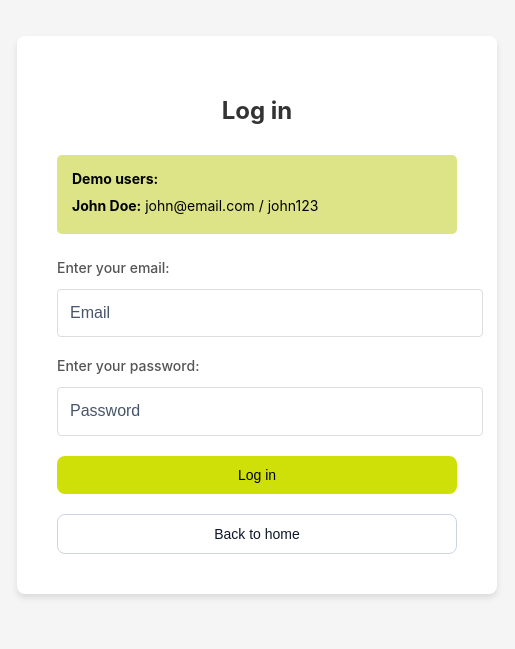
Test: LoginForm — failed login › TC-UNIT-FE-048 — shows error message on failed login
The width and height of the screenshot is (515, 649).
Type "wrong@example.com" into the field with placeholder "email" at (270, 313), box [57,289,483,338]
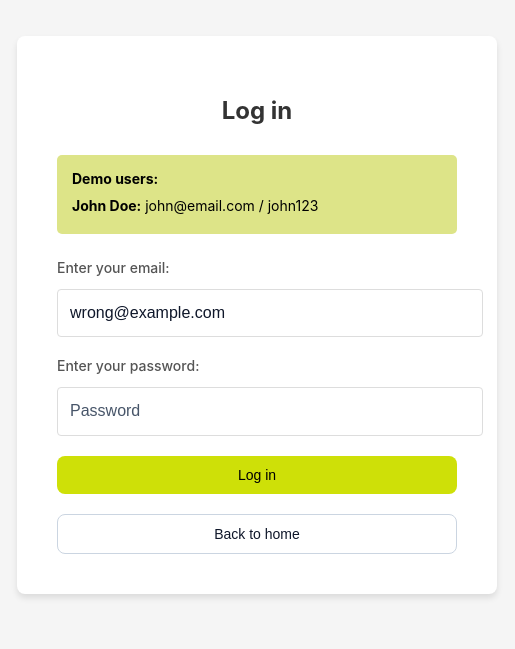
Type "badpass" into the password field with placeholder "password" at (270, 412), box [57,388,483,436]
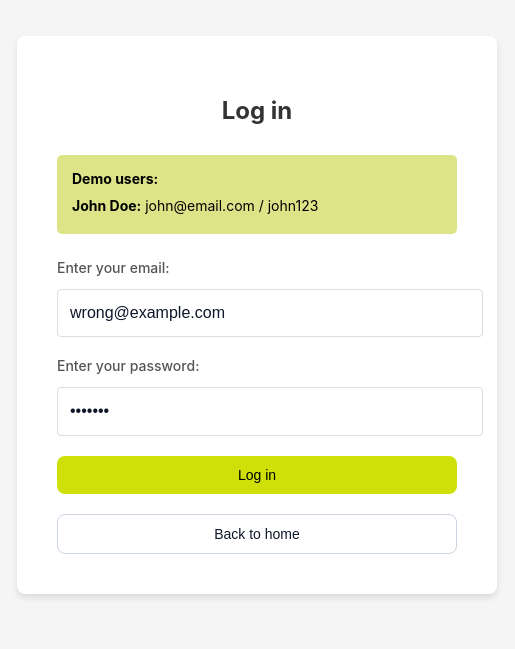
Click the button "Log in" at (257, 475), box [57,456,457,494]
Wait 900 ms
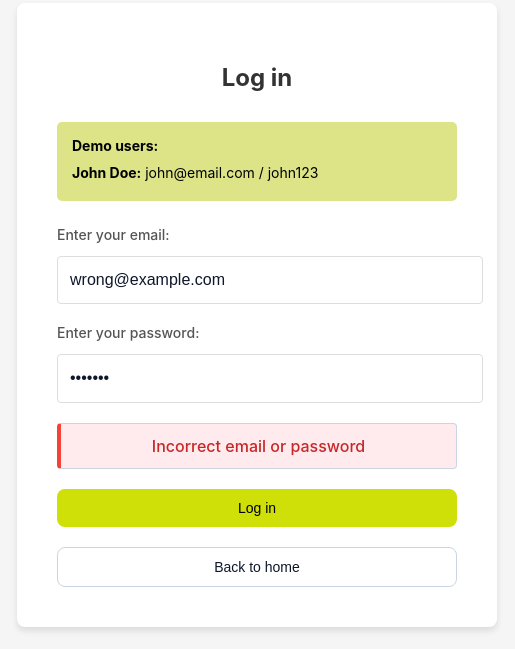
Now the text "Incorrect email or password" is shown, box [57,423,457,469]
